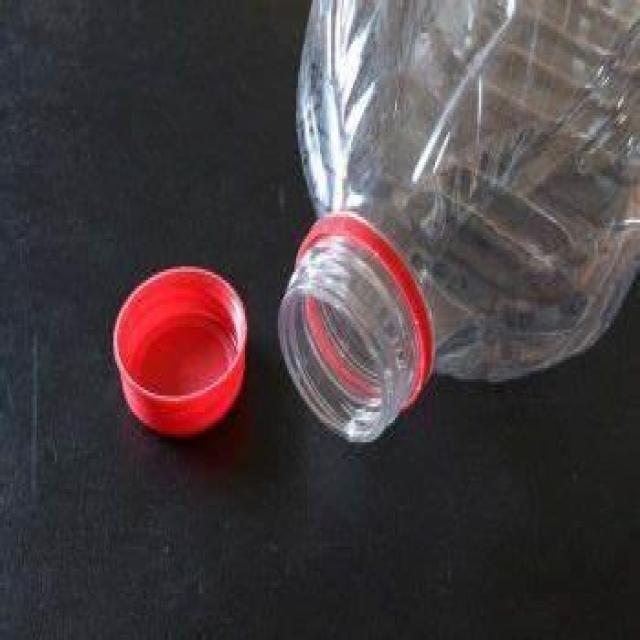plastic bottle: (276, 0, 640, 445)
plastic bottle cap: (113, 261, 250, 438)
